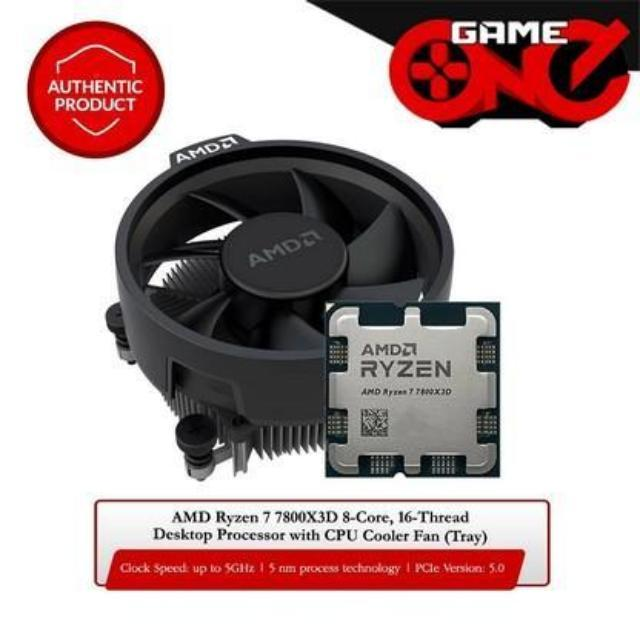CPU: (331, 306, 498, 480)
CPU_Fan: (91, 132, 454, 470)
